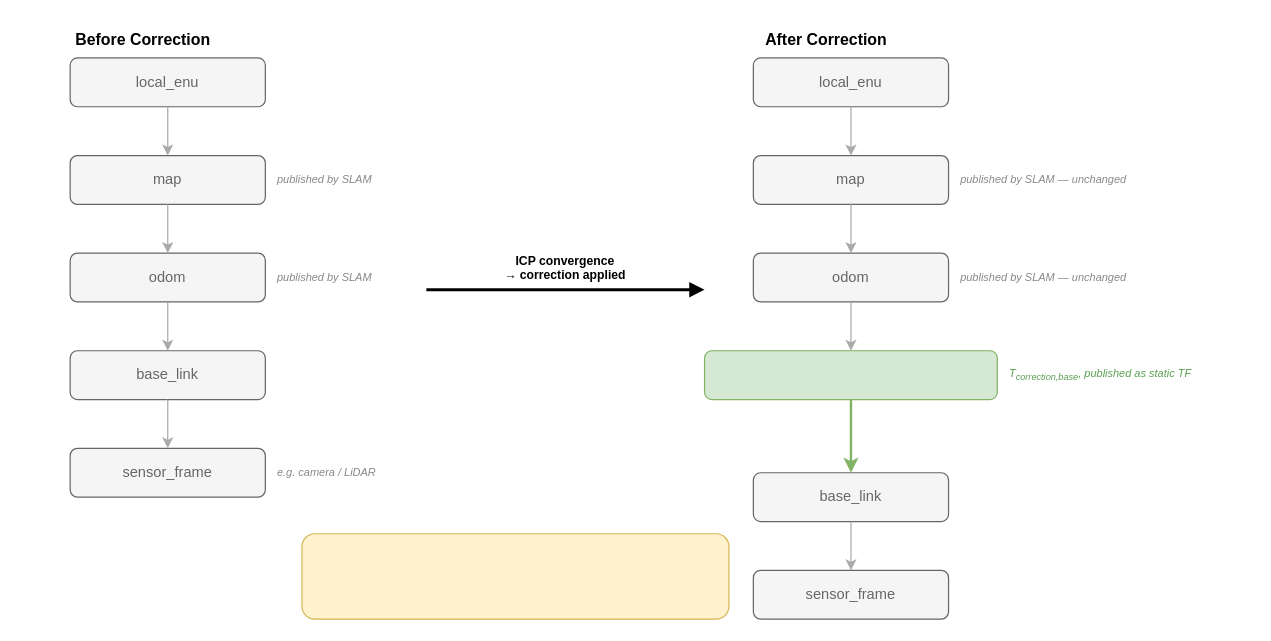
The diagram is 1271 pixels wide and 641 high, and some of its shapes have lost their labels. The shapes that lost their labels are listed below. From the top down, each one's box as (x1, y1, x2, y2) in pixels, then its label:
(703, 350, 997, 400): base_link_corrected
(301, 533, 729, 619): T correction,base = T base→sensor −1 · T correction,sensor · T base→sensor
